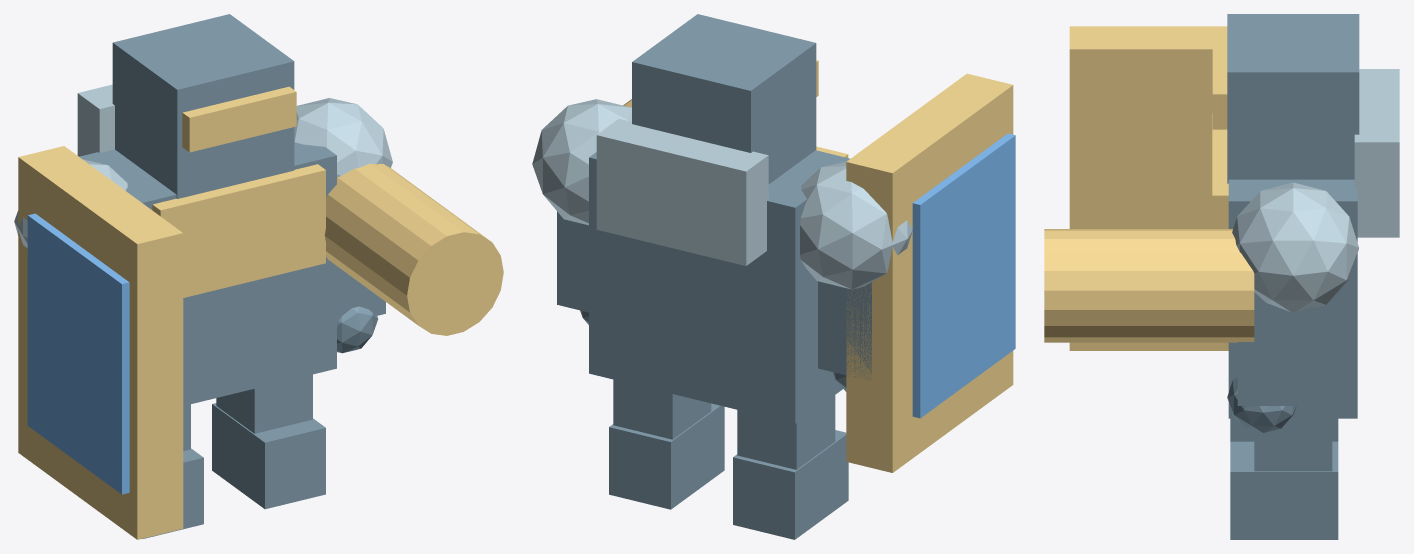
File: bastion_guardian.glb
3 views of the same model, side by side, from view 1: azimuth 30°, elevation 25°; view 2: azimuth 150°, elevation 25°; view 3: azimuth 270°, elevation 25° (orthographic). The views are drawn at different scales.
Visible parts, largest first — view 1: heavy_shield_15, helmet_6, hex_shield_field_16, shield_cannon_17, torso_4, chestplate_5, boots_2, shoulder_joint_11, visor_7, leg_armor_3, power_backpack_14, boots_0 (+3 smaller); view 2: torso_4, heavy_shield_15, hex_shield_field_16, helmet_6, power_backpack_14, shoulder_joint_8, boots_2, boots_0, shoulder_joint_11, leg_armor_1, arm_armor_9, leg_armor_3 (+1 smaller); view 3: heavy_shield_15, shield_cannon_17, helmet_6, shoulder_joint_11, torso_4, boots_2, power_backpack_14, arm_armor_12, leg_armor_3, chestplate_5, wrist_joint_13, visor_7 (+1 smaller).
Part boxes in pixels (<box>): heavy_shield_15: <box>18,146,183,539</box>; helmet_6: <box>112,14,294,198</box>; hex_shield_field_16: <box>27,213,129,494</box>; shield_cannon_17: <box>324,163,503,335</box>; torso_4: <box>79,142,336,405</box>; chestplate_5: <box>152,164,325,297</box>; boots_2: <box>212,403,325,509</box>; shoulder_joint_11: <box>294,98,392,177</box>; visor_7: <box>182,86,296,152</box>; leg_armor_3: <box>216,374,312,433</box>; power_backpack_14: <box>77,84,114,156</box>; boots_0: <box>142,448,203,538</box>; torso_4: <box>589,150,850,423</box>; heavy_shield_15: <box>846,73,1013,472</box>; hex_shield_field_16: <box>912,133,1015,418</box>; helmet_6: <box>632,14,816,184</box>; power_backpack_14: <box>596,119,768,265</box>; shoulder_joint_8: <box>800,161,912,289</box>; boots_2: <box>609,403,724,509</box>; boots_0: <box>733,430,848,539</box>; shoulder_joint_11: <box>532,99,631,225</box>; leg_armor_1: <box>737,395,835,469</box>; arm_armor_9: <box>818,281,871,380</box>; leg_armor_3: <box>613,379,711,439</box>; heavy_shield_15: <box>1069,26,1228,350</box>; shield_cannon_17: <box>1044,229,1254,342</box>; helmet_6: <box>1227,14,1359,183</box>; shoulder_joint_11: <box>1232,182,1358,312</box>; torso_4: <box>1228,179,1357,418</box>; boots_2: <box>1230,441,1338,539</box>; power_backpack_14: <box>1354,69,1399,237</box>; arm_armor_12: <box>1237,292,1312,405</box>; leg_armor_3: <box>1254,418,1332,471</box>; chestplate_5: <box>1212,113,1228,228</box>; wrist_joint_13: <box>1227,375,1296,432</box>; visor_7: <box>1212,41,1227,129</box>.
Bounding box in the file's own units: 1.44 × 1.66 × 1.18.
